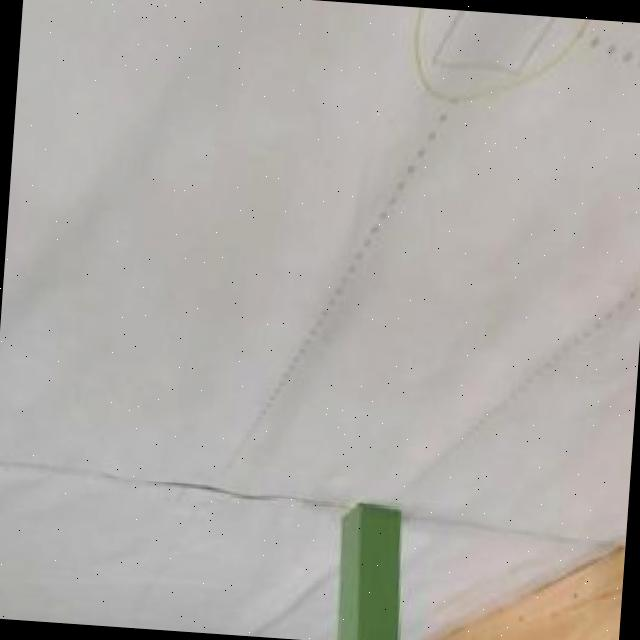greenbox: (328, 499, 409, 640)
